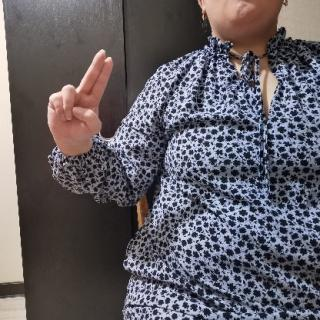TA: (45, 48, 118, 160)
